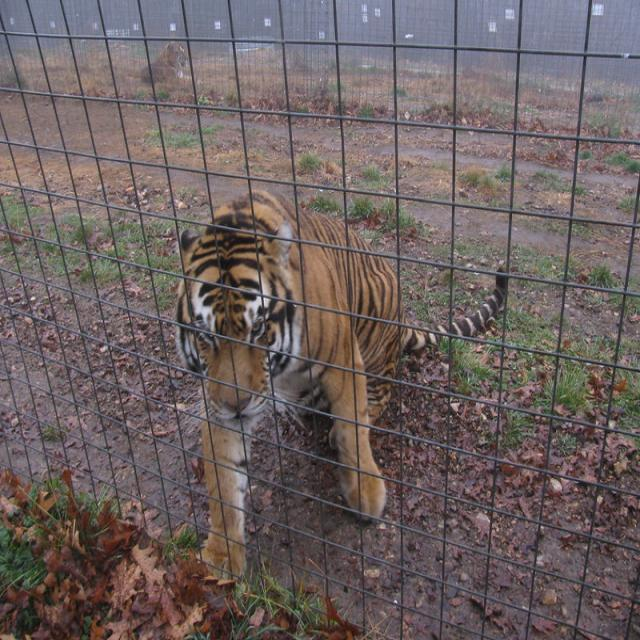Tiger: (172, 184, 510, 584)
